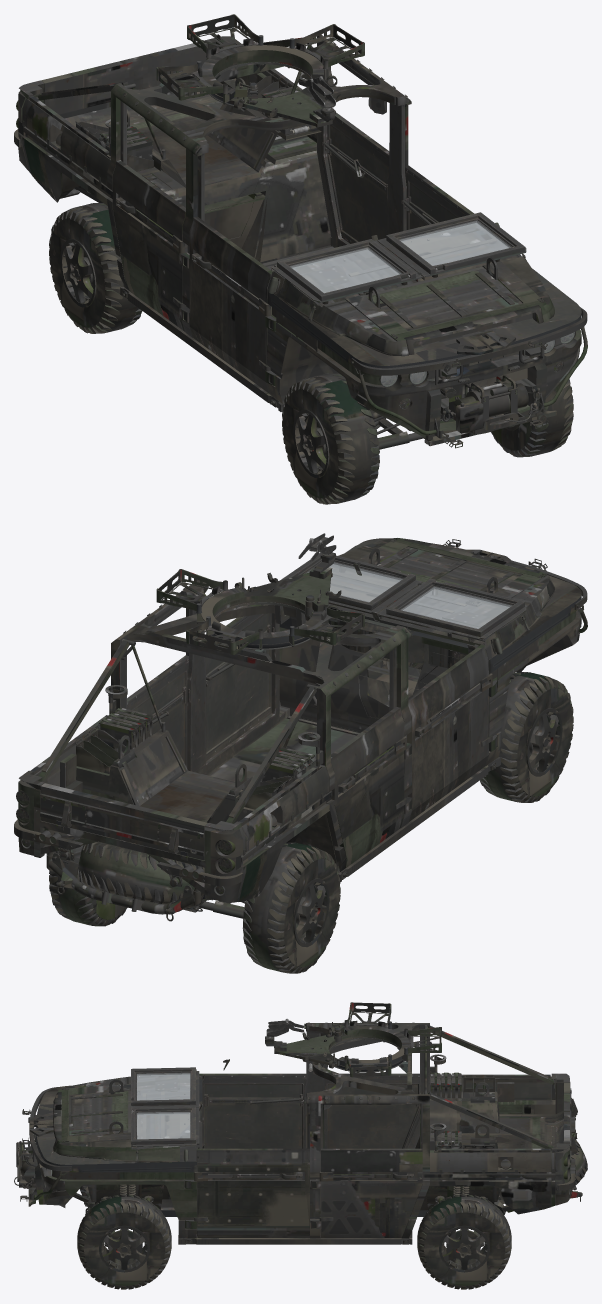
Rendered from VEH_Vector.glb.
3 renders of one model, top to bottom at view 1: azimuth 30°, elevation 25°; view 2: azimuth 150°, elevation 25°; view 3: azimuth 270°, elevation 25°, orthographic. The views are drawn at different scales.
Visible parts, largest first — view 1: ob_veh_car_vector_base_s1, ob_veh_car_vector_base_s2, ob_veh_car_vector_wheelright_s0_p1, ob_veh_car_vector_wheelright_s0_p0, ob_veh_car_vector_base_s3, ob_veh_car_vector_wheelleft_s0_p1, ob_veh_car_vector_base_s0; view 2: ob_veh_car_vector_base_s1, ob_veh_car_vector_base_s2, ob_veh_car_vector_wheelright_s0_p0, ob_veh_car_vector_wheelright_s0_p1, ob_veh_car_vector_base_s3, ob_veh_car_vector_wheelleft_s0_p0, ob_veh_car_vector_base_s5, ob_veh_car_vector_base_s0; view 3: ob_veh_car_vector_base_s1, ob_veh_car_vector_base_s2, ob_veh_car_vector_wheelleft_s0_p1, ob_veh_car_vector_wheelleft_s0_p0, ob_veh_car_vector_base_s3, ob_veh_car_vector_base_s4.
Boxes of the visible parts, left/top/right/bottom form: ob_veh_car_vector_base_s1: left=14, top=14, right=587, bottom=459; ob_veh_car_vector_base_s2: left=123, top=36, right=526, bottom=302; ob_veh_car_vector_wheelright_s0_p1: left=282, top=373, right=379, bottom=504; ob_veh_car_vector_wheelright_s0_p0: left=49, top=203, right=142, bottom=333; ob_veh_car_vector_base_s3: left=290, top=221, right=574, bottom=386; ob_veh_car_vector_wheelleft_s0_p1: left=491, top=379, right=573, bottom=457; ob_veh_car_vector_base_s0: left=16, top=100, right=572, bottom=408; ob_veh_car_vector_base_s1: left=14, top=538, right=587, bottom=928; ob_veh_car_vector_base_s2: left=120, top=553, right=526, bottom=775; ob_veh_car_vector_wheelright_s0_p0: left=242, top=842, right=340, bottom=973; ob_veh_car_vector_wheelright_s0_p1: left=480, top=672, right=573, bottom=802; ob_veh_car_vector_base_s3: left=22, top=562, right=511, bottom=894; ob_veh_car_vector_wheelleft_s0_p0: left=49, top=839, right=127, bottom=926; ob_veh_car_vector_base_s5: left=279, top=618, right=467, bottom=669; ob_veh_car_vector_base_s0: left=16, top=790, right=232, bottom=894; ob_veh_car_vector_base_s1: left=14, top=1002, right=587, bottom=1260; ob_veh_car_vector_base_s2: left=131, top=1024, right=429, bottom=1148; ob_veh_car_vector_wheelleft_s0_p1: left=77, top=1194, right=171, bottom=1289; ob_veh_car_vector_wheelleft_s0_p0: left=417, top=1194, right=511, bottom=1289; ob_veh_car_vector_base_s3: left=51, top=1073, right=190, bottom=1175; ob_veh_car_vector_base_s4: left=266, top=1018, right=304, bottom=1038.
Size of the model in its own units: 1.94 by 2.44 by 5.52.
6 materials, 5 textured.
